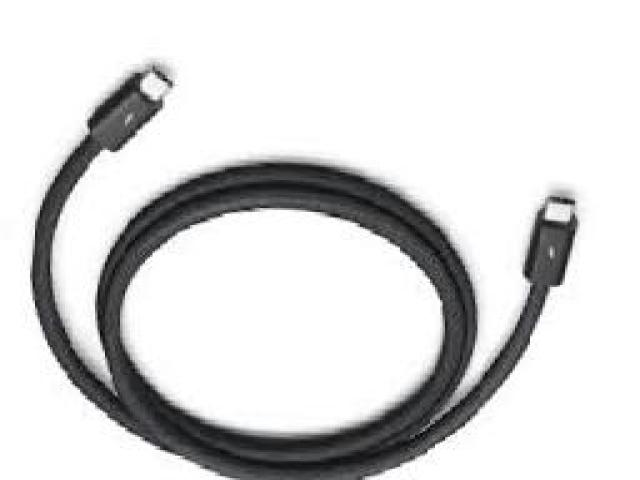wire: (31, 67, 575, 480)
